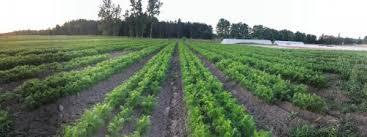Organic: (0, 3, 367, 137)
